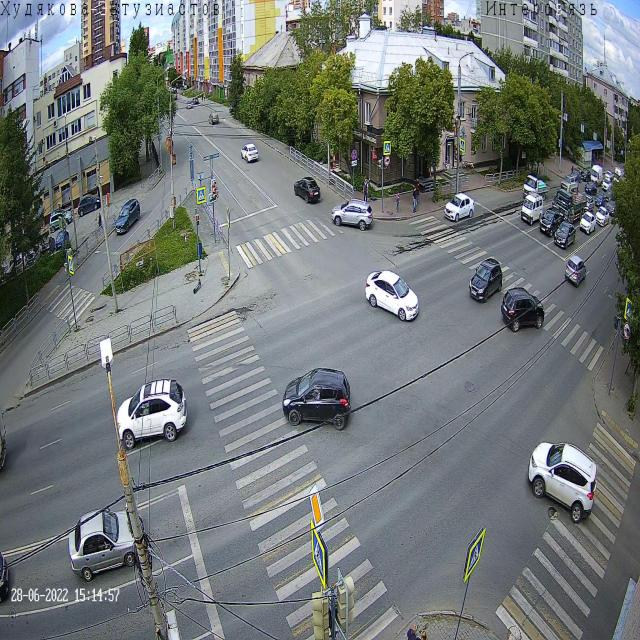car: (68, 505, 146, 583), (527, 441, 597, 524), (115, 377, 188, 450), (282, 366, 352, 431), (365, 270, 419, 322), (500, 286, 544, 333), (468, 257, 503, 304), (331, 198, 373, 232), (114, 198, 140, 235), (444, 192, 474, 223), (520, 191, 543, 226), (294, 176, 320, 204), (564, 256, 586, 288), (539, 207, 561, 238), (554, 220, 576, 250), (0, 546, 10, 606), (579, 210, 596, 236), (241, 142, 258, 164), (594, 206, 610, 227), (561, 174, 577, 194), (606, 196, 622, 216), (552, 192, 568, 210), (582, 194, 594, 214), (584, 181, 598, 196), (595, 191, 606, 209), (570, 169, 582, 184), (579, 168, 591, 182), (208, 111, 219, 125), (604, 189, 615, 203), (602, 177, 612, 192), (604, 170, 613, 182), (186, 100, 193, 110), (192, 97, 199, 105)
pedestrian: (406, 623, 418, 640), (416, 628, 429, 640), (362, 178, 368, 204), (98, 212, 104, 236), (412, 186, 417, 214), (416, 181, 420, 207), (396, 192, 400, 212), (571, 165, 574, 177), (599, 157, 601, 171), (203, 92, 206, 101), (554, 150, 556, 163), (416, 199, 418, 212), (591, 157, 593, 169), (202, 93, 204, 102)
truck: (556, 185, 587, 227), (522, 174, 550, 204), (0, 403, 9, 473), (590, 164, 603, 188), (613, 165, 625, 187)
